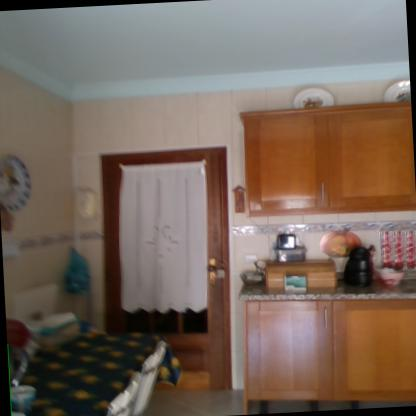closed: (90, 140, 244, 400)
